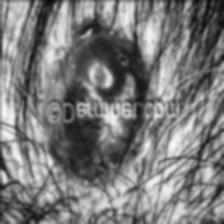Potentially Malignant Skin Tumors: (42, 19, 146, 186), (74, 36, 122, 100)
